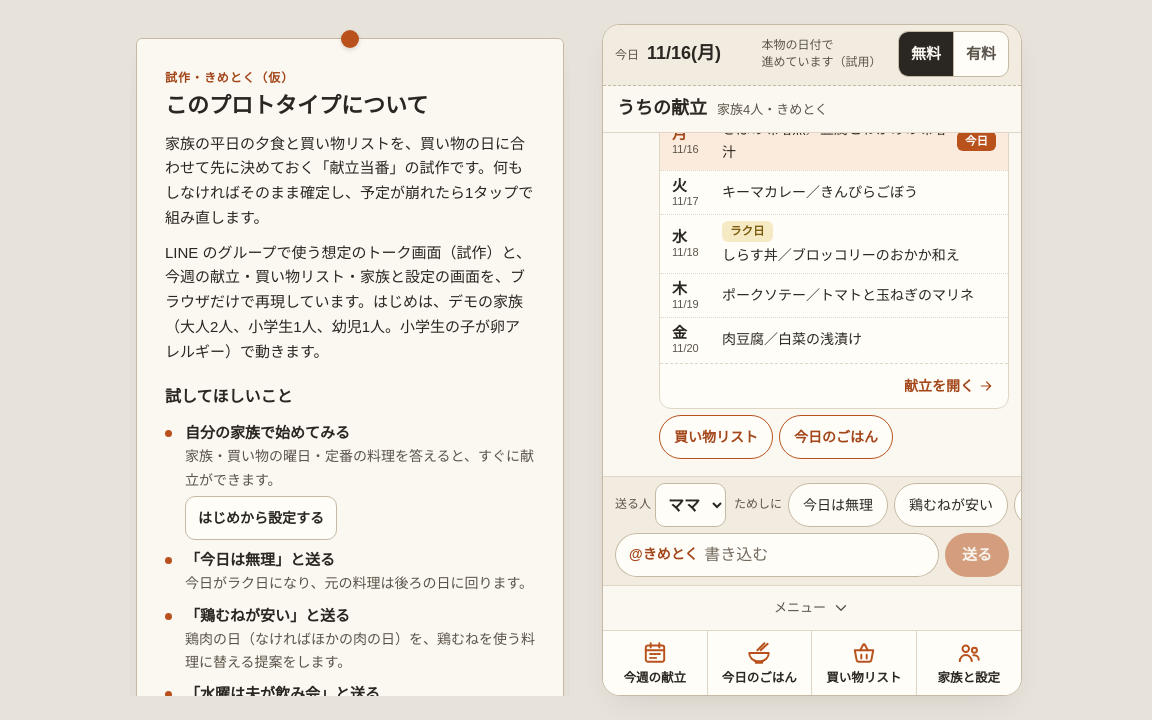
Test: 試用モード（本物の日付で進める） › AI の読み取り中は進めず、読み取りが終わって返事を入れてから追いつく
The width and height of the screenshot is (1152, 720).
(page scrolled)
In the field named "きめとくへの書き込み": (815,555) [704, 533, 925, 577], type "ふわふわのやつ"
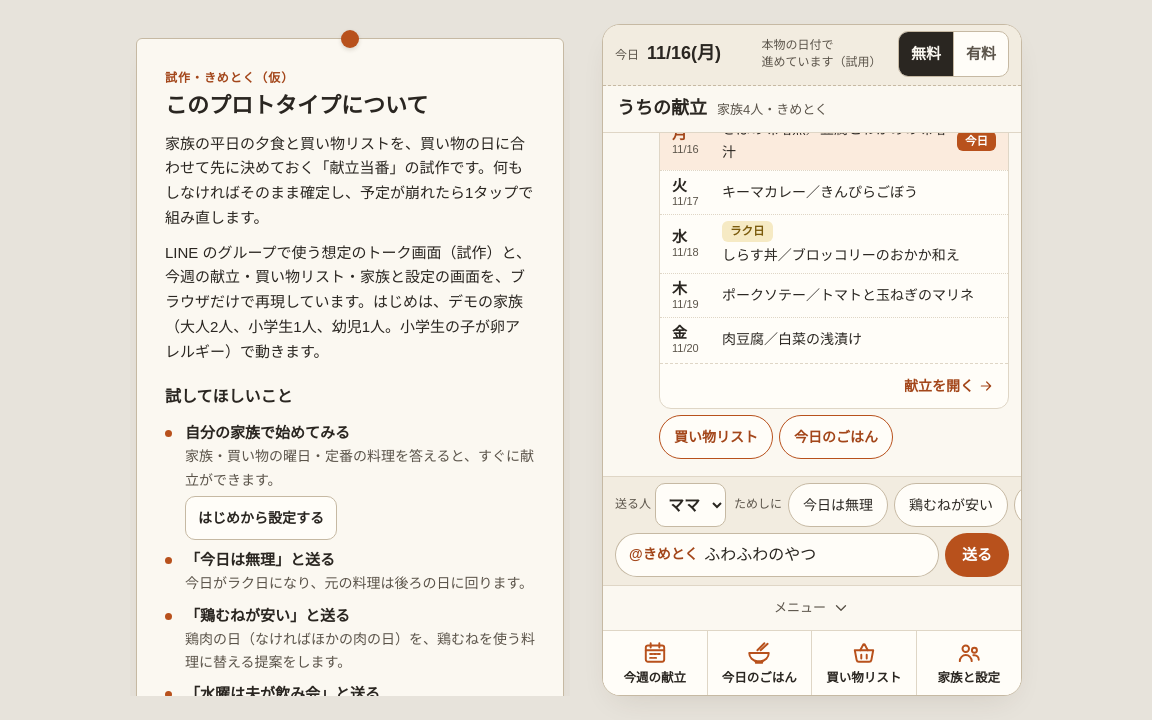
Click the button "送る": (977,555) [945, 533, 1009, 577]
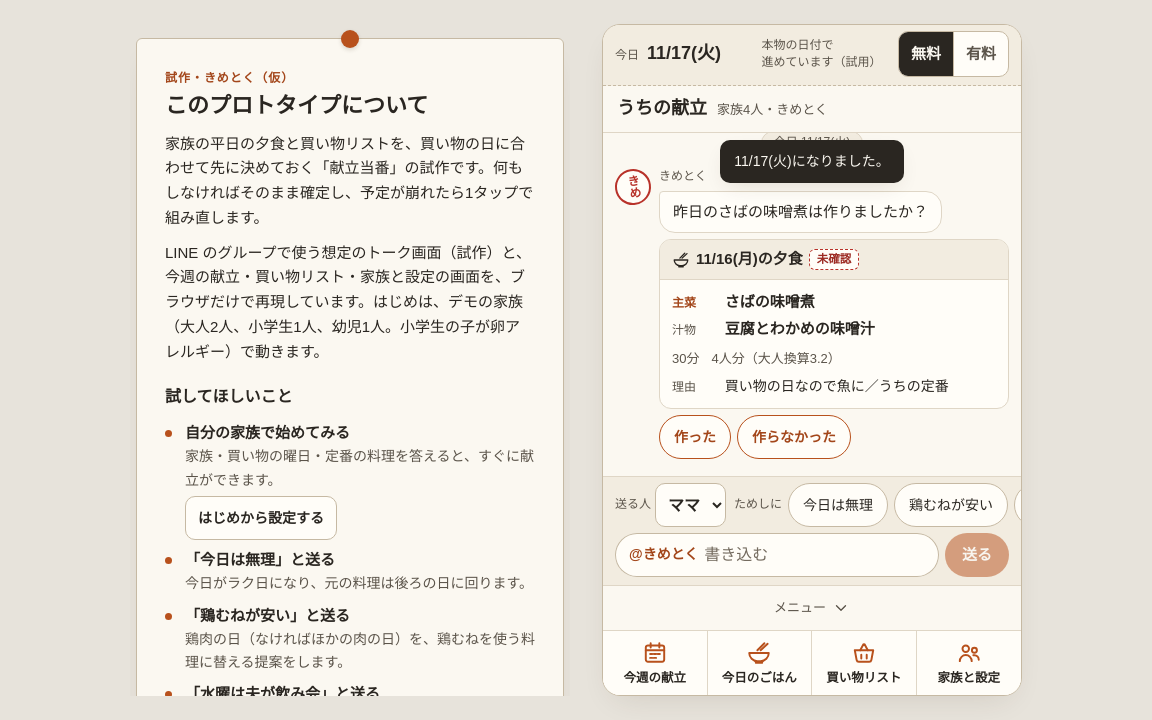
Expected: the text "11/17(火)になりました。" is shown, [720, 140, 904, 183]
